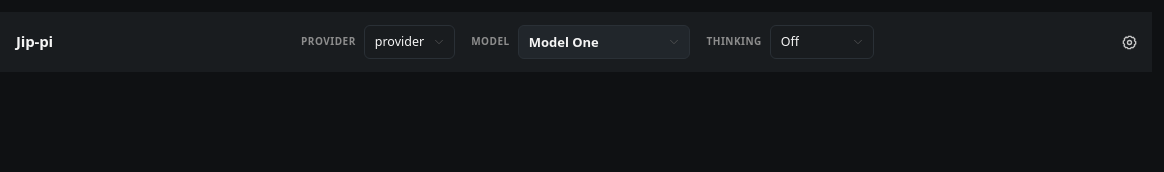
Test case: TopBar › model options format context windows with k and M suffixes
Click the button with test id "model-select": x=604, y=42 [518, 25, 690, 59]
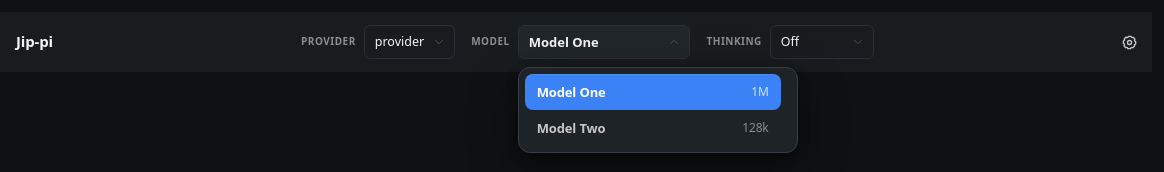
Now the text "1M" is shown, box [751, 83, 769, 100]
Now the text "128k" is shown, box [742, 119, 769, 136]
